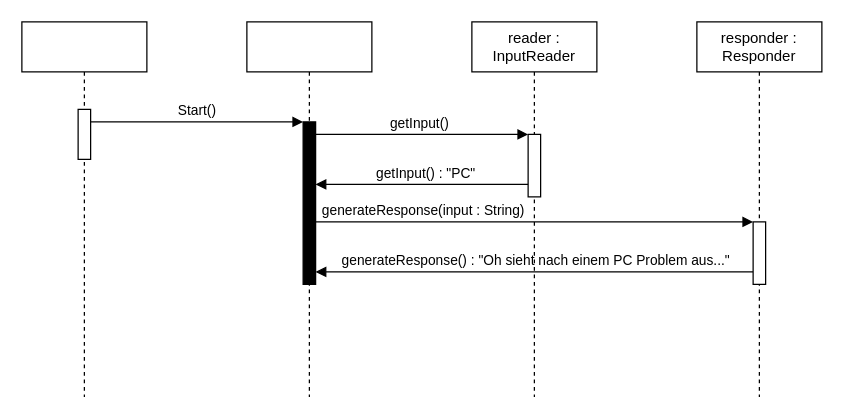
The diagram is 844 pixels wide and 419 high, and some of its shapes have lost their labels. Here are the shapes that lost their labels. From the top down, the box of each, then its label:
(21, 21, 147, 397): Starter
(246, 21, 372, 397): supportSystem : SupportSystem
